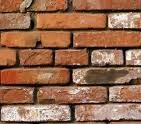brick: (1, 105, 72, 121), (1, 30, 71, 46), (1, 68, 70, 84), (73, 31, 141, 47), (34, 13, 106, 28), (37, 87, 108, 102), (75, 104, 141, 120), (73, 68, 141, 83), (1, 1, 68, 12), (107, 11, 141, 28), (18, 49, 52, 66), (1, 87, 36, 103), (72, 1, 141, 9), (55, 49, 88, 65), (90, 49, 123, 65), (1, 13, 32, 29), (109, 88, 141, 103), (1, 49, 16, 65), (126, 50, 141, 66)
